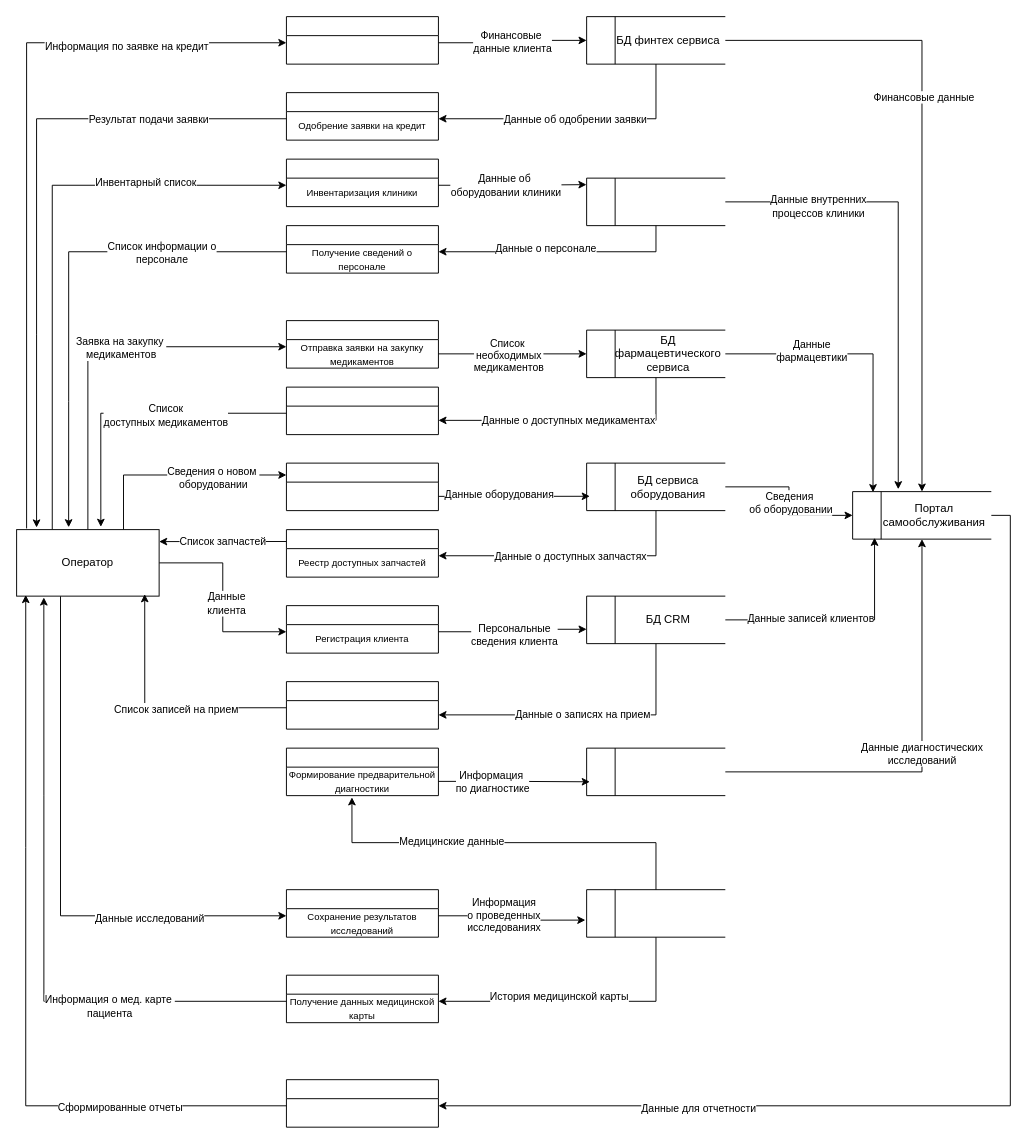
Image size: 1035x1144. Some labels were removed from this diagram. Here are the shapes that lost their labels. From the top down, the centre of each, then its label:
pixel 361 40: Отправка заявки на кредит
pixel 655 201: БД сервиса внутренних процессов
pixel 361 410: Получение списка доступных медикаментов
pixel 361 486: Добавление нового оборудования
pixel 361 705: Получение сведений о записях на прием
pixel 655 771: БД ИИ-сервиса
pixel 655 913: БД медицинского сервиса
pixel 361 1103: Конструирование отчетов
